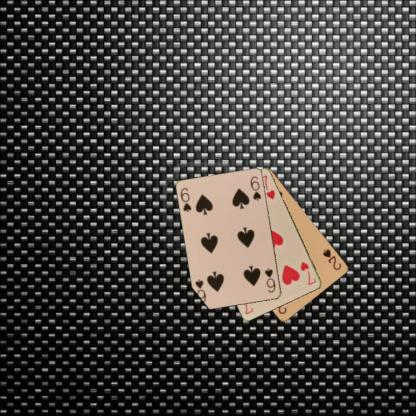2s: (320, 246, 343, 272)
6s: (262, 266, 277, 294), (178, 185, 192, 214)
7h: (298, 259, 318, 286)
